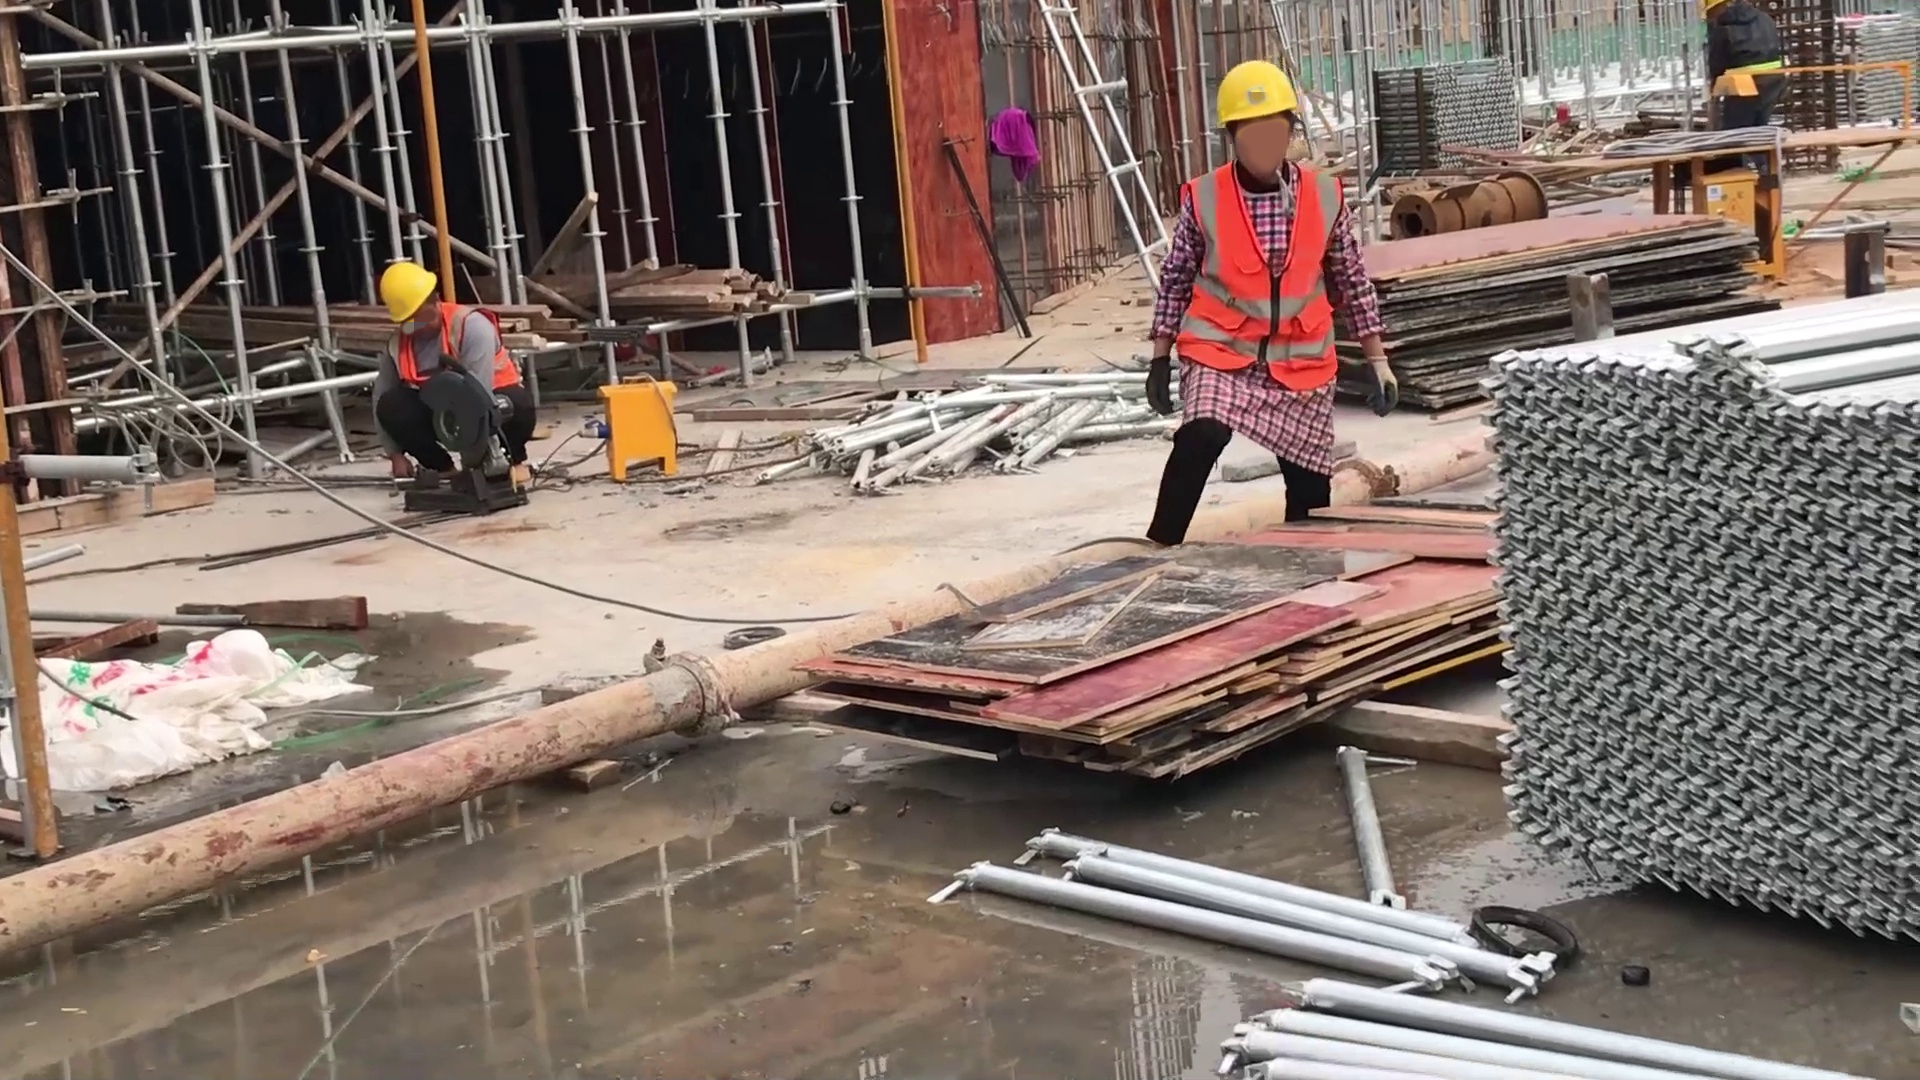board: (788, 500, 1581, 784), (1317, 202, 1797, 414)
ebox: (589, 377, 681, 485), (1688, 165, 1763, 243)
helmet: (1202, 57, 1315, 129), (370, 256, 443, 327)
person: (1146, 56, 1400, 549), (365, 251, 545, 490), (1684, 3, 1793, 161)
scaffold: (1481, 279, 1919, 956)
vest: (1172, 163, 1345, 395), (385, 303, 518, 393)
